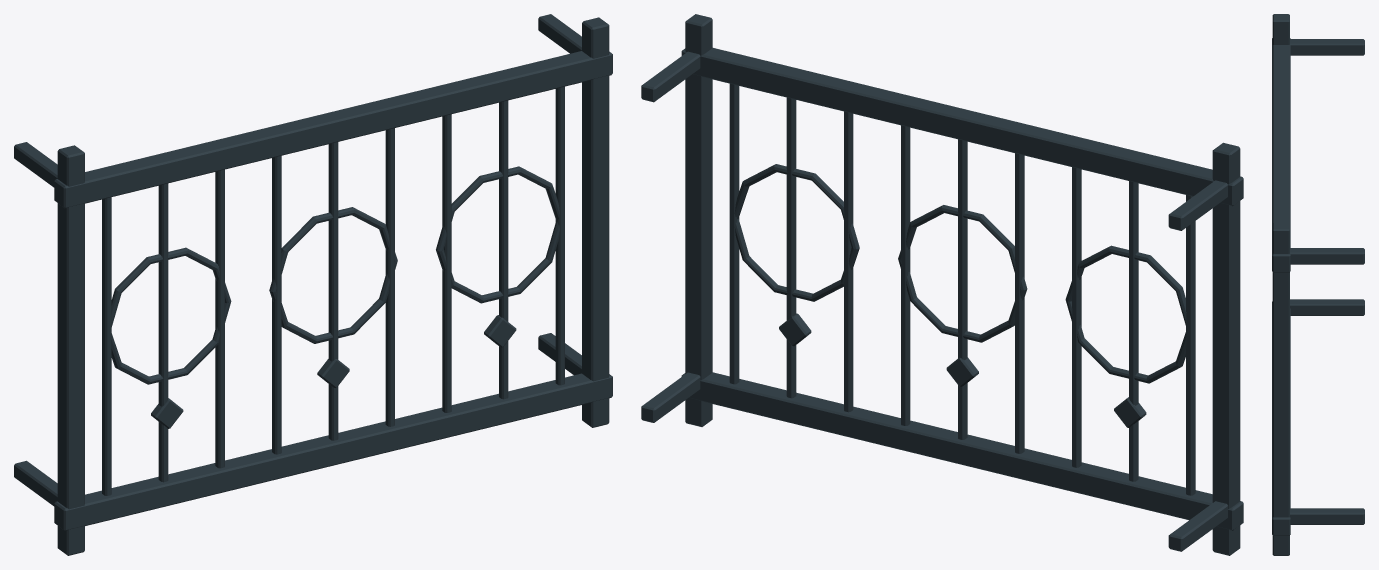
File: b12_ornamental_juliet_balcony.glb
3 renders of one model, left to right at view 1: azimuth 30°, elevation 25°; view 2: azimuth 150°, elevation 25°; view 3: azimuth 270°, elevation 25°, orthographic. The views are drawn at different scales.
Visible parts, largest first — view 1: b12_ornamental_juliet_balcony; view 2: b12_ornamental_juliet_balcony; view 3: b12_ornamental_juliet_balcony.
Part boxes in pixels (left/top/right/bottom): b12_ornamental_juliet_balcony: left=14, top=14, right=612, bottom=555; b12_ornamental_juliet_balcony: left=641, top=14, right=1243, bottom=555; b12_ornamental_juliet_balcony: left=1272, top=14, right=1364, bottom=555.
Size of the model in its own units: 1.55 by 1.08 by 0.2775.
